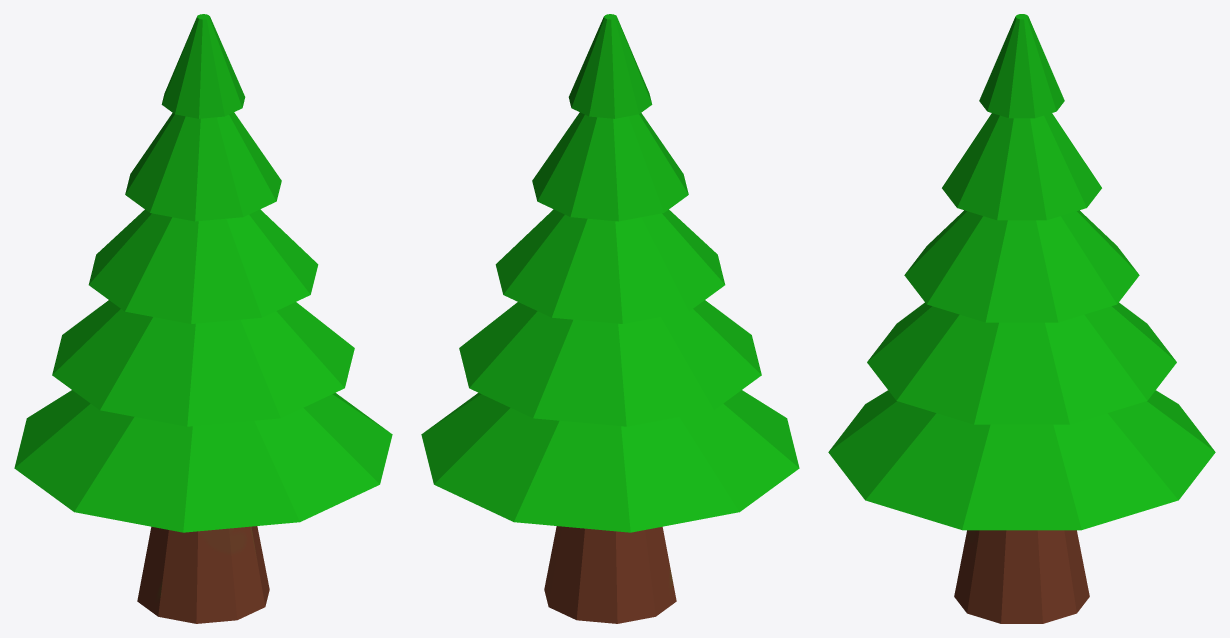
File: Pine_Model.fbx
3 views of the same model, side by side, from view 1: azimuth 30°, elevation 25°; view 2: azimuth 150°, elevation 25°; view 3: azimuth 270°, elevation 25° (orthographic).
Parts seen in each view (by area): view 1: Cilindro; view 2: Cilindro; view 3: Cilindro.
Part boxes in pixels (x1,y1,x2,y2): Cilindro: (14,14,392,623); Cilindro: (421,14,799,623); Cilindro: (828,14,1215,623).
Size of the model in its own units: 486 by 803 by 463.
1 material, 1 textured.
